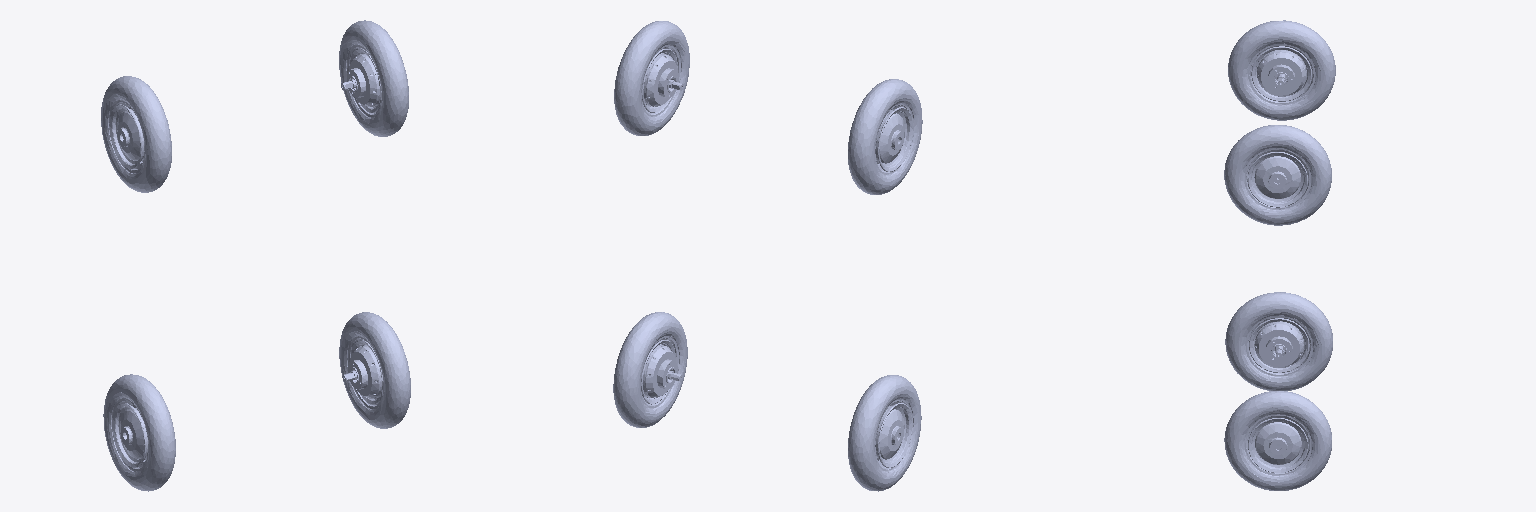
URDF robot description (Adam_Assem1):
<?xml version="1.0" encoding="utf-8"?>
<!-- This URDF was automatically created by SolidWorks to URDF Exporter! Originally created by [author] ([email redacted]) 
     Commit Version: 1.6.0-4-g7f85cfe  Build Version: 1.6.7995.38578
     For more information, please see http://wiki.ros.org/sw_urdf_exporter -->
<robot
  name="Adam_Assem1">
  <link
    name="base_link">
    <inertial>
      <origin
        xyz="-0.059542072370369 0.0356483765950732 -0.0233150462329552"
        rpy="0 0 0" />
      <mass
        value="16.4252793734974" />
      <inertia
        ixx="0.55749272397669"
        ixy="0.00232592968602603"
        ixz="-0.000725423995296264"
        iyy="0.673048751975987"
        iyz="-0.0273284884879403"
        izz="1.16575541561121" />
    </inertial>
    <visual>
      <origin
        xyz="0 0 0"
        rpy="0 0 0" />
      <geometry>
        <mesh
          filename="package://Adam_Assem1/meshes/base_link.STL" />
      </geometry>
      <material
        name="">
        <color
          rgba="0.792156862745098 0.819607843137255 0.933333333333333 1" />
      </material>
    </visual>
    <collision>
      <origin
        xyz="0 0 0"
        rpy="0 0 0" />
      <geometry>
        <mesh
          filename="package://Adam_Assem1/meshes/base_link.STL" />
      </geometry>
    </collision>
  </link>
  <link
    name="rear_wheel2">
    <inertial>
      <origin
        xyz="-0.522832562056461 0.524509049244007 -0.271623574689137"
        rpy="0 0 0" />
      <mass
        value="7.51671054794239" />
      <inertia
        ixx="0.168722777874011"
        ixy="0.000349200510187432"
        ixz="0.00135685348204446"
        iyy="0.0882587130955659"
        iyz="-3.50627079694679E-06"
        izz="0.0883054027771902" />
    </inertial>
    <visual>
      <origin
        xyz="0 0 0"
        rpy="0 0 0" />
      <geometry>
        <mesh
          filename="package://Adam_Assem1/meshes/rear_wheel2.STL" />
      </geometry>
      <material
        name="">
        <color
          rgba="0.792156862745098 0.819607843137255 0.933333333333333 1" />
      </material>
    </visual>
    <collision>
      <origin
        xyz="0 0 0"
        rpy="0 0 0" />
      <geometry>
        <mesh
          filename="package://Adam_Assem1/meshes/rear_wheel2.STL" />
      </geometry>
    </collision>
  </link>
  <joint
    name="rear_right"
    type="continuous">
    <origin
      xyz="0 0 0"
      rpy="1.5708 0 -0.006357" />
    <parent
      link="base_link" />
    <child
      link="rear_wheel2" />
    <axis
      xyz="0.014413 0.99333 -0.11438" />
    <limit
      effort="1"
      velocity="1" />
  </joint>
  <link
    name="rear_wheel1">
    <inertial>
      <origin
        xyz="0.387243393897938 0.523220721223987 -0.263740072649743"
        rpy="0 0 0" />
      <mass
        value="7.5167105479424" />
      <inertia
        ixx="0.168624960017716"
        ixy="0.00198160529183376"
        ixz="0.00242794730659346"
        iyy="0.0883341721498838"
        iyz="5.669432888809E-05"
        izz="0.0883277615791685" />
    </inertial>
    <visual>
      <origin
        xyz="0 0 0"
        rpy="0 0 0" />
      <geometry>
        <mesh
          filename="package://Adam_Assem1/meshes/rear_wheel1.STL" />
      </geometry>
      <material
        name="">
        <color
          rgba="0.792156862745098 0.819607843137255 0.933333333333333 1" />
      </material>
    </visual>
    <collision>
      <origin
        xyz="0 0 0"
        rpy="0 0 0" />
      <geometry>
        <mesh
          filename="package://Adam_Assem1/meshes/rear_wheel1.STL" />
      </geometry>
    </collision>
  </link>
  <joint
    name="rear_left"
    type="continuous">
    <origin
      xyz="0 0 0"
      rpy="1.5708 0 -0.006357" />
    <parent
      link="base_link" />
    <child
      link="rear_wheel1" />
    <axis
      xyz="0.014413 0.99333 -0.11438" />
    <limit
      effort="1"
      velocity="1" />
  </joint>
  <link
    name="front_wheel2">
    <inertial>
      <origin
        xyz="0.392276960623307 -0.560921255355041 -0.264800683389676"
        rpy="0 0 0" />
      <mass
        value="7.51671054794238" />
      <inertia
        ixx="0.168719554849781"
        ixy="0.00121290961282988"
        ixz="0.000866894746966951"
        iyy="0.0882958150504655"
        iyz="-7.03713407160277E-07"
        izz="0.0882715238465202" />
    </inertial>
    <visual>
      <origin
        xyz="0 0 0"
        rpy="0 0 0" />
      <geometry>
        <mesh
          filename="package://Adam_Assem1/meshes/front_wheel2.STL" />
      </geometry>
      <material
        name="">
        <color
          rgba="0.792156862745098 0.819607843137255 0.933333333333333 1" />
      </material>
    </visual>
    <collision>
      <origin
        xyz="0 0 0"
        rpy="0 0 0" />
      <geometry>
        <mesh
          filename="package://Adam_Assem1/meshes/front_wheel2.STL" />
      </geometry>
    </collision>
  </link>
  <joint
    name="front_left"
    type="continuous">
    <origin
      xyz="0 0 0"
      rpy="1.5708 0 -0.006357" />
    <parent
      link="base_link" />
    <child
      link="front_wheel2" />
    <axis
      xyz="0.014413 0.99333 -0.11438" />
    <limit
      effort="1"
      velocity="1" />
  </joint>
  <link
    name="front_wheel1">
    <inertial>
      <origin
        xyz="-0.515702986013468 -0.581479316577731 -0.262495898839036"
        rpy="0 0 0" />
      <mass
        value="7.51671054794237" />
      <inertia
        ixx="0.168732317153036"
        ixy="-0.00108064581937818"
        ixz="0.000166745700160991"
        iyy="0.0882985323699084"
        iyz="-9.17042277629758E-06"
        izz="0.0882560442238228" />
    </inertial>
    <visual>
      <origin
        xyz="0 0 0"
        rpy="0 0 0" />
      <geometry>
        <mesh
          filename="package://Adam_Assem1/meshes/front_wheel1.STL" />
      </geometry>
      <material
        name="">
        <color
          rgba="0.792156862745098 0.819607843137255 0.933333333333333 1" />
      </material>
    </visual>
    <collision>
      <origin
        xyz="0 0 0"
        rpy="0 0 0" />
      <geometry>
        <mesh
          filename="package://Adam_Assem1/meshes/front_wheel1.STL" />
      </geometry>
    </collision>
  </link>
  <joint
    name="front_right"
    type="continuous">
    <origin
      xyz="0 0 0"
      rpy="1.5708 0 -0.006357" />
    <parent
      link="base_link" />
    <child
      link="front_wheel1" />
    <axis
      xyz="0.014413 0.99333 -0.11438" />
    <limit
      effort="1"
      velocity="1" />
  </joint>
</robot>

--- Render facts (derived) ---
Views: 3 orthographic renders of the robot side by side, from view 1: azimuth 30°, elevation 25°; view 2: azimuth 150°, elevation 25°; view 3: azimuth 270°, elevation 25°.
Robot: Adam_Assem1 — 5 links, 4 joints (4 continuous); root link base_link; default pose: all joints at 0.
Visible links, largest first — view 1: front_wheel1, front_wheel2, rear_wheel2, rear_wheel1; view 2: rear_wheel1, rear_wheel2, front_wheel1, front_wheel2; view 3: rear_wheel1, front_wheel2, rear_wheel2, front_wheel1.
Boxes of the visible links, left/top/right/bottom form: front_wheel1: left=103, top=374, right=175, bottom=491; front_wheel2: left=339, top=312, right=410, bottom=428; rear_wheel2: left=101, top=76, right=171, bottom=192; rear_wheel1: left=339, top=20, right=408, bottom=136; rear_wheel1: left=614, top=21, right=689, bottom=135; rear_wheel2: left=848, top=79, right=922, bottom=194; front_wheel1: left=848, top=375, right=921, bottom=491; front_wheel2: left=613, top=312, right=687, bottom=427; rear_wheel1: left=1224, top=125, right=1331, bottom=225; front_wheel2: left=1224, top=391, right=1331, bottom=490; rear_wheel2: left=1228, top=20, right=1335, bottom=120; front_wheel1: left=1225, top=292, right=1332, bottom=390.
Bounding box of the posed robot: 1.04 × 0.4141 × 1.51 m (x, y, z).
Meshes: 5 distinct files referenced, 4 mesh visuals loaded (4 binary STL); not drawn: 1 (reference not matched to a file when rendering).
